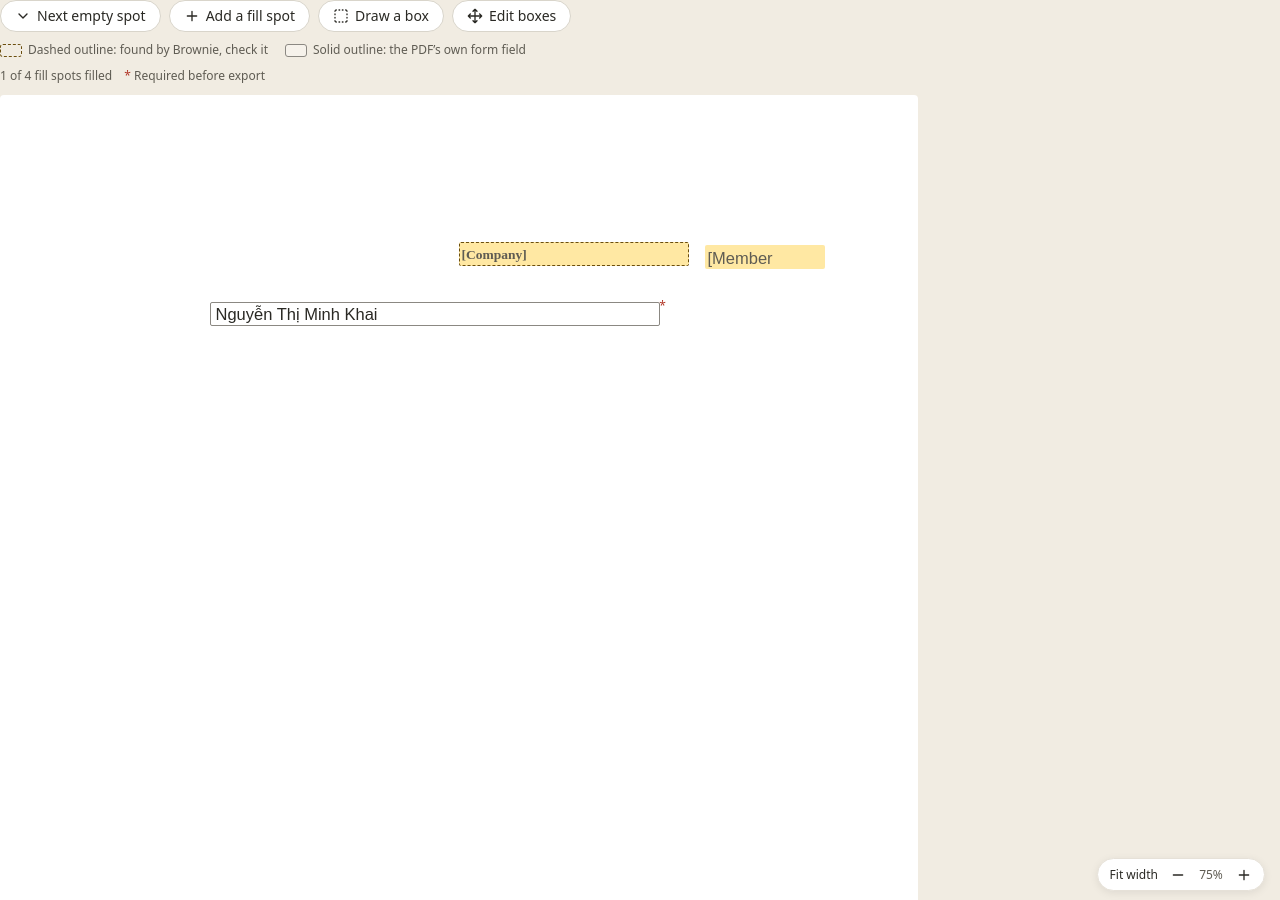
Test: PdfFormPage › moves and sizes the boxes Brownie drew with the arrow keys, and sends every move at once on Done
The width and height of the screenshot is (1280, 900).
Click the button "Edit boxes" at (512, 16), box x1=452 y1=0 x2=571 y2=32
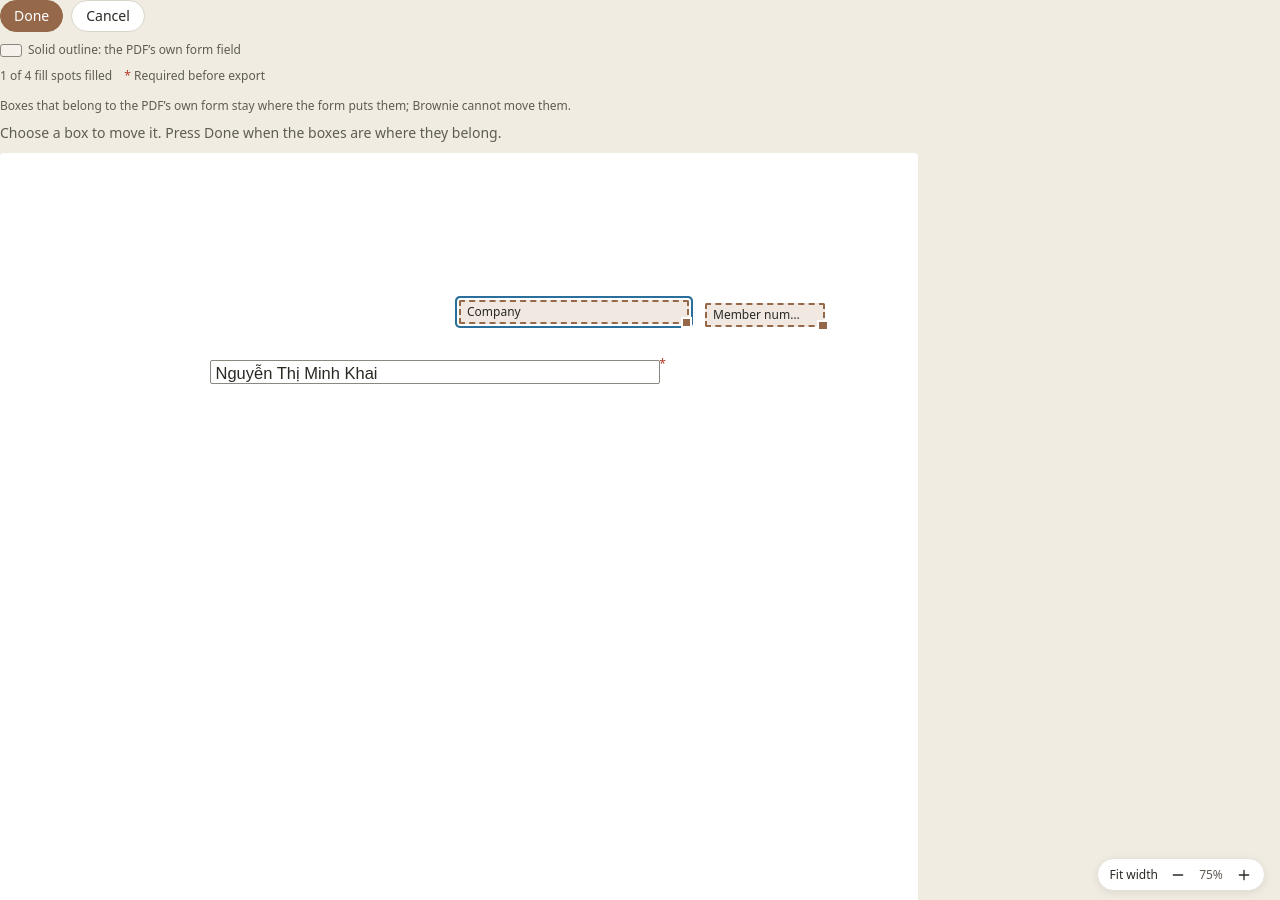
Expected: the text "Boxes that belong to the PDF’s own form stay where the form puts them" is shown, x1=0 y1=97 x2=571 y2=114
Expected: the text "Dashed outline: found by Brownie" is gone
Press ArrowRight in the button "Company", box x1=459 y1=300 x2=688 y2=324
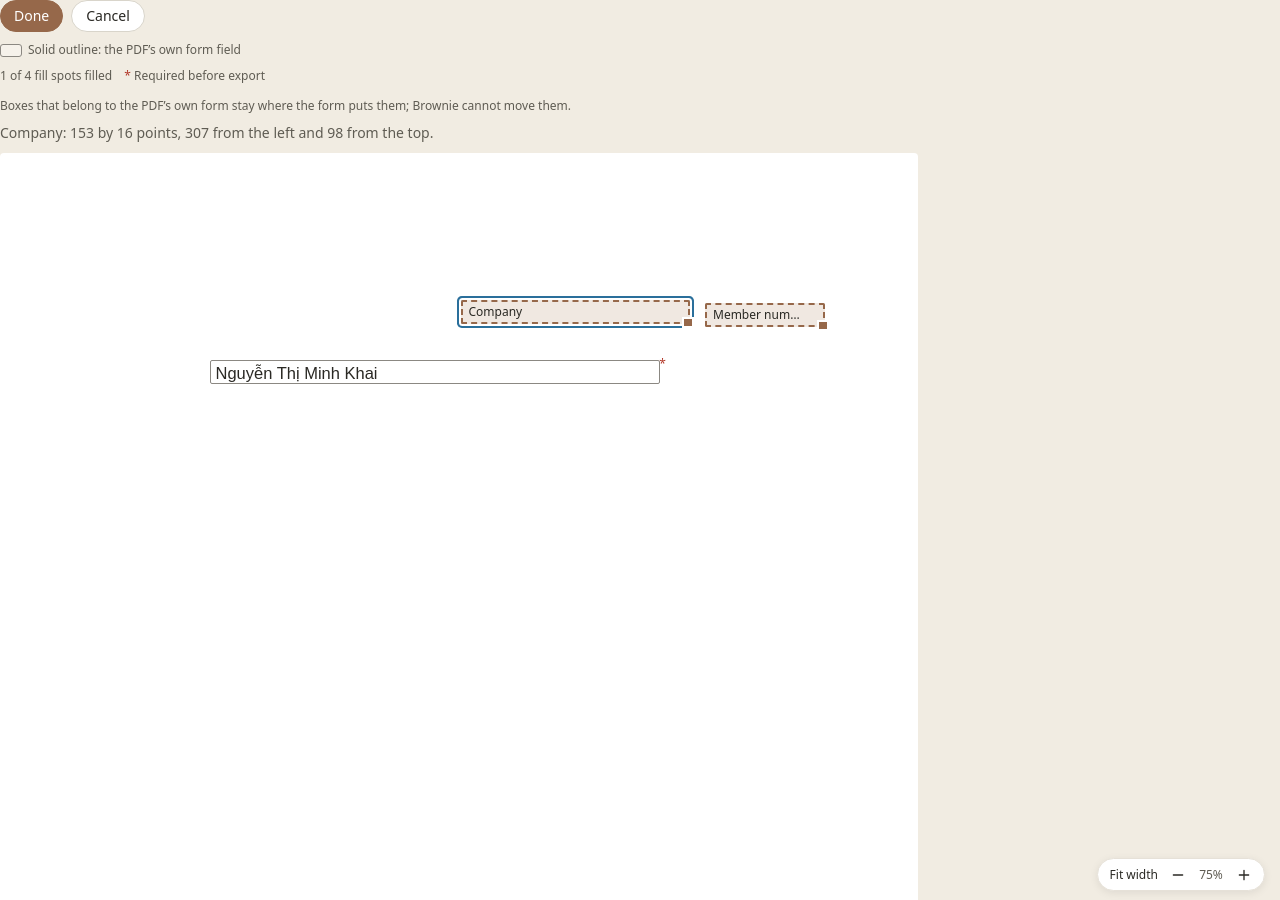
Press ArrowDown in the button "Company", box x1=460 y1=300 x2=690 y2=324
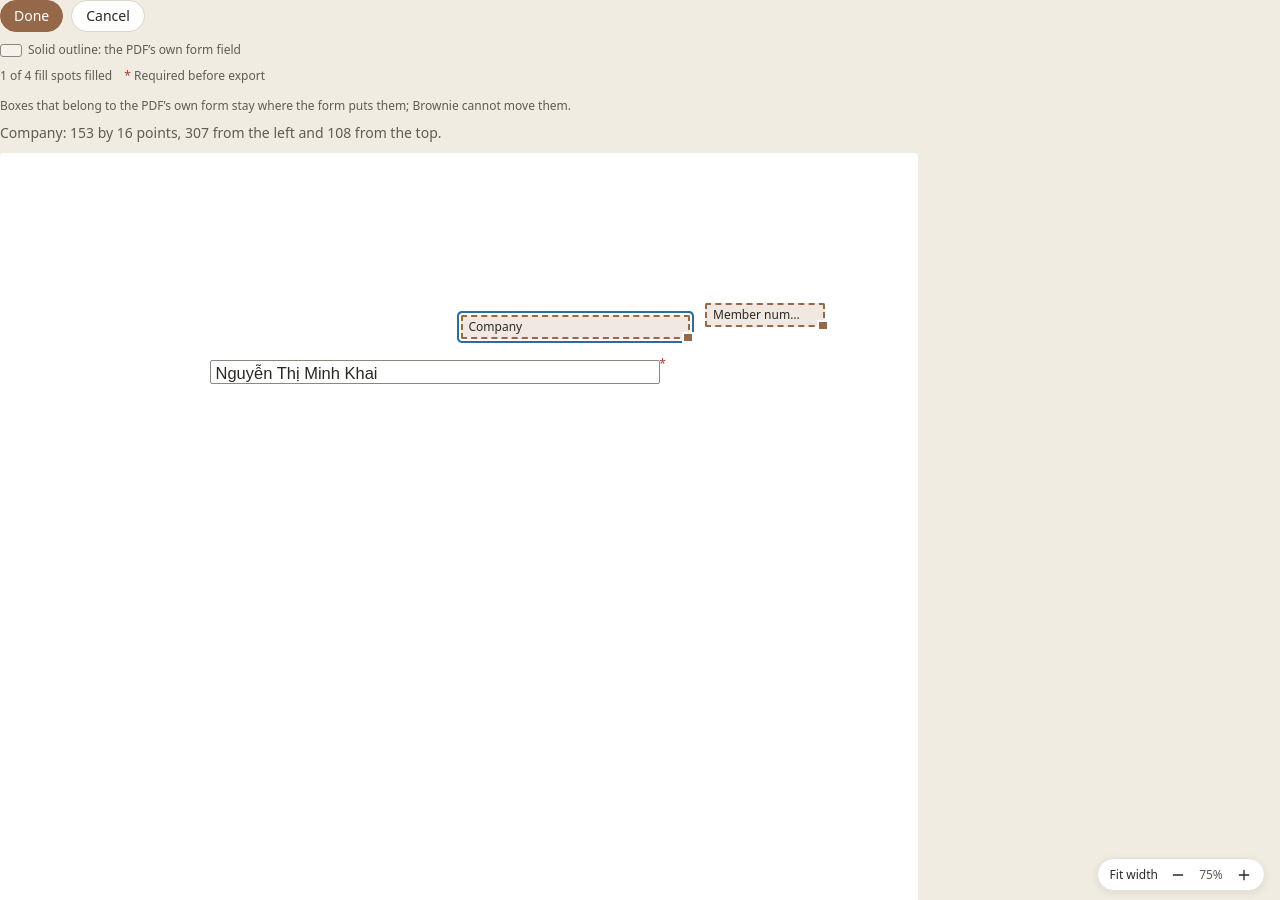
Press ArrowRight in the button "Company", box x1=460 y1=315 x2=690 y2=339
(page scrolled)
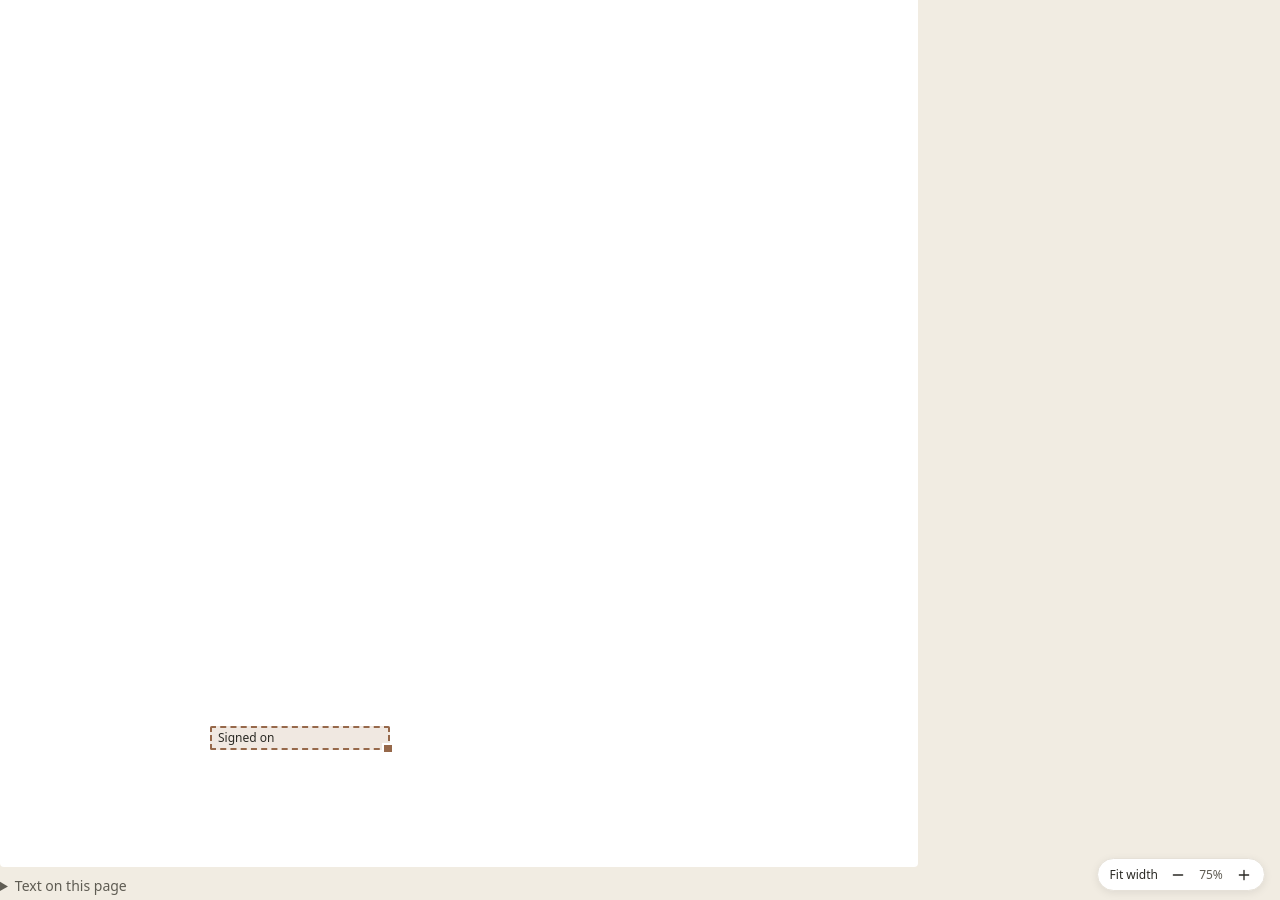
Press ArrowUp in the button "Signed on", box x1=210 y1=726 x2=390 y2=750
(page scrolled)
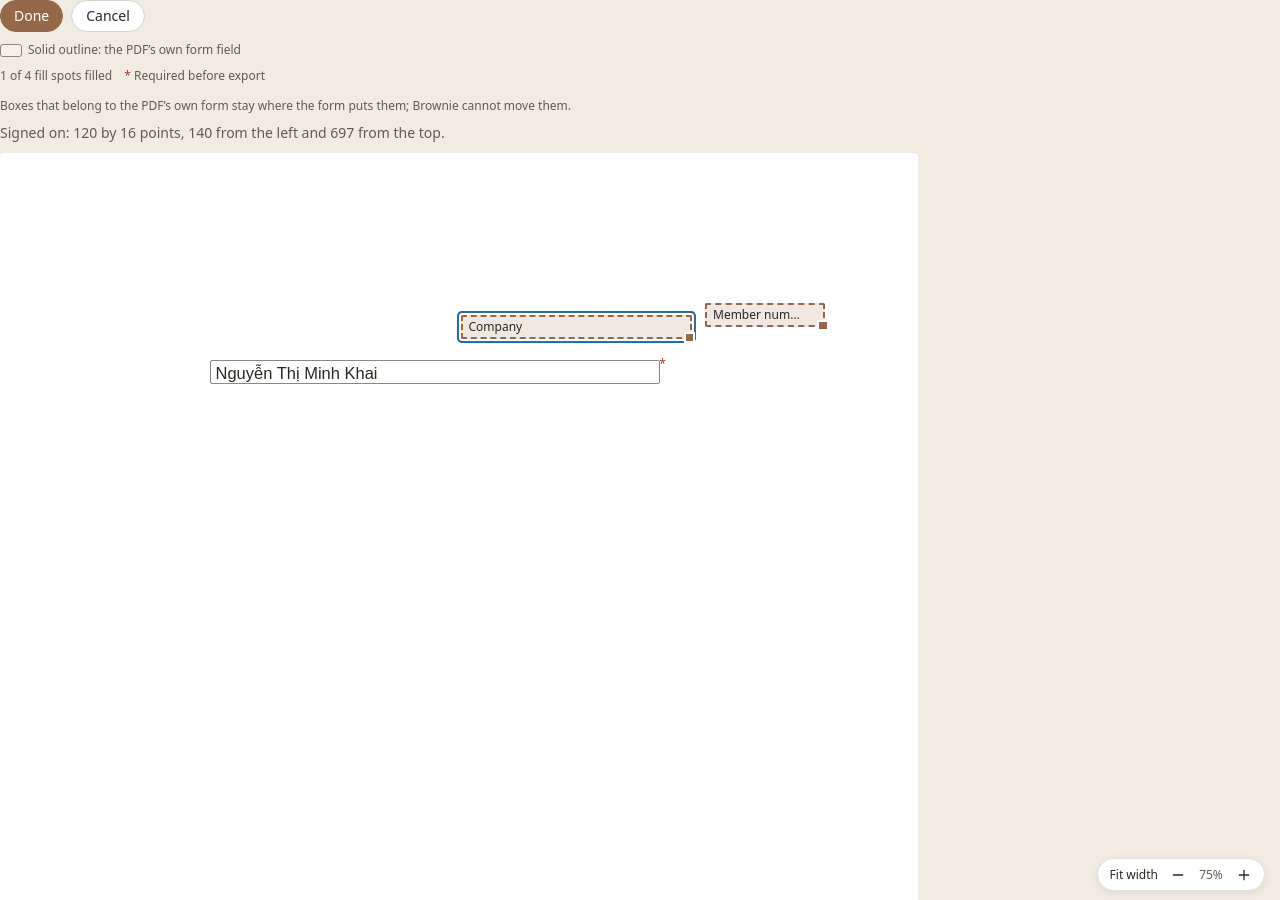
Click the button "Done" at (32, 16), box x1=0 y1=0 x2=63 y2=32
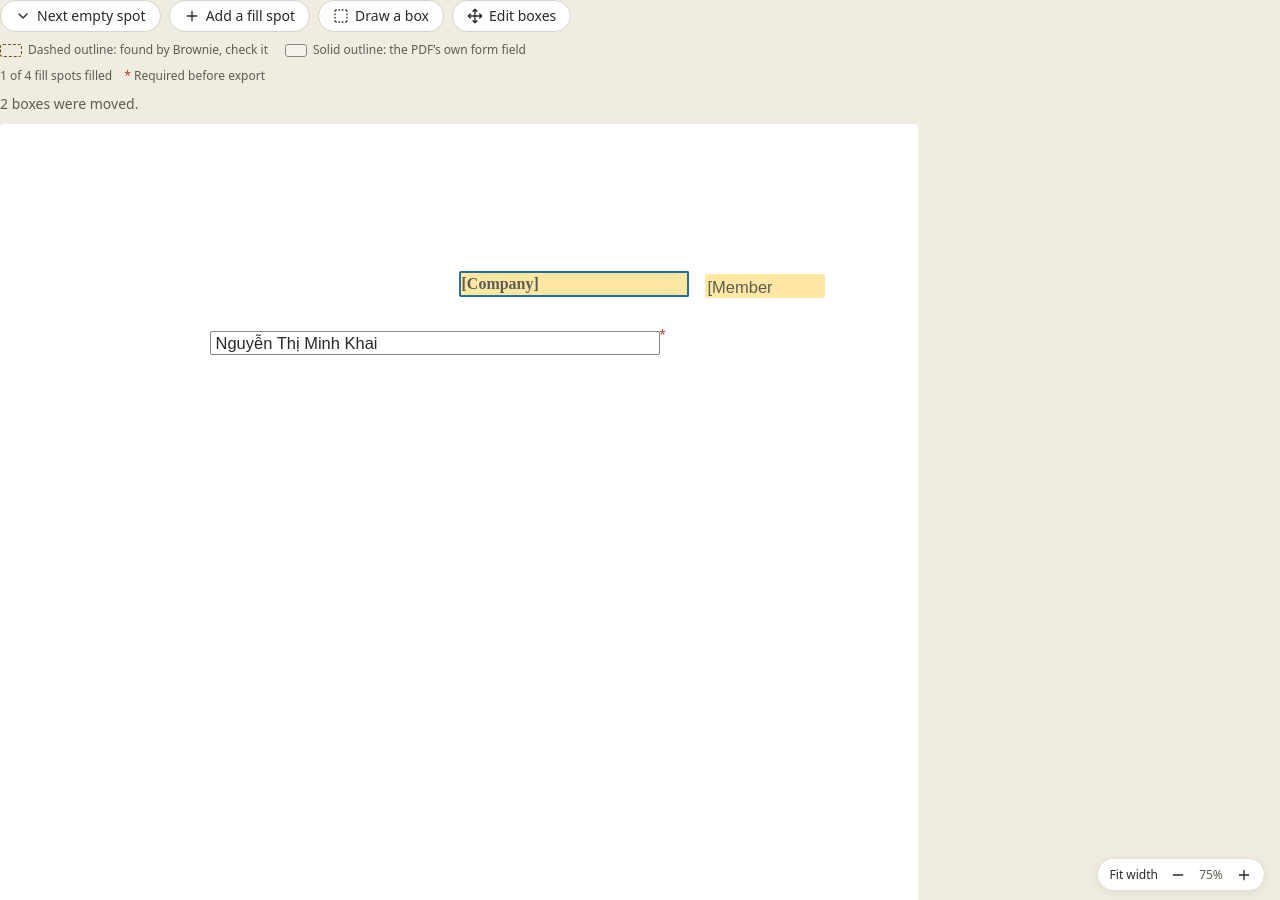
Expected: no buttons are shown
Expected: the text "Dashed outline: found by Brownie, check it" is shown, x1=28 y1=41 x2=268 y2=58
